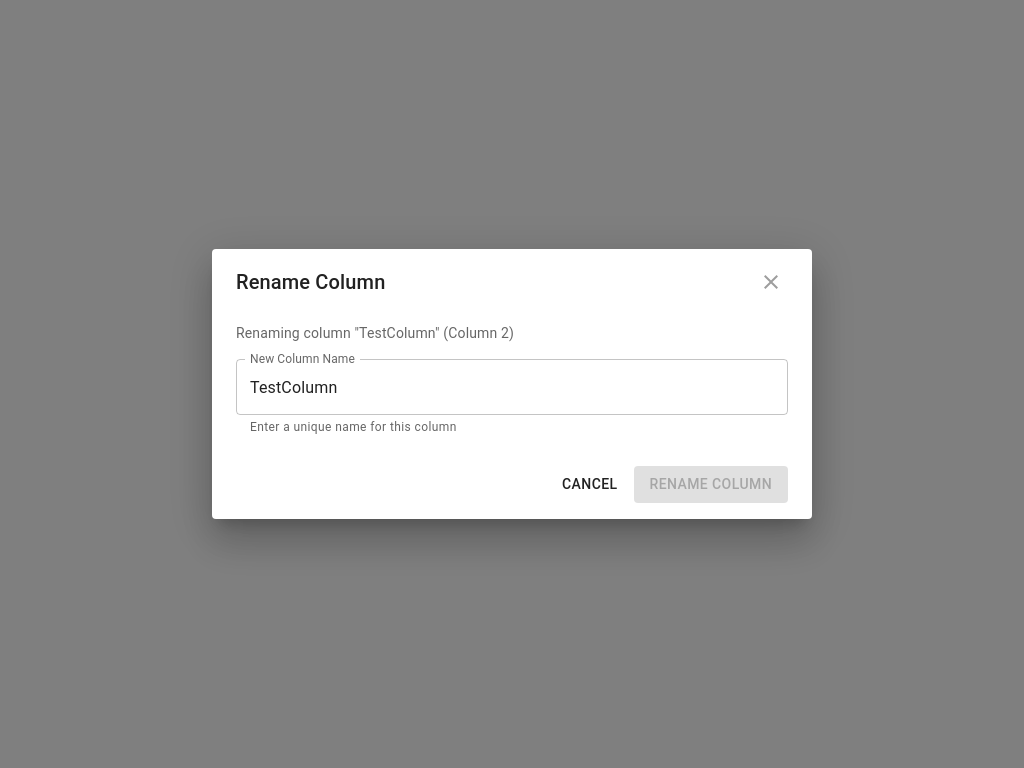
Test: ColumnRenameDialog › validates duplicate column names
This screenshot has width=1024, height=768.
Replace the text in the field showing "TestColumn" with "Column1" at (512, 387), box [236,359,788,415]
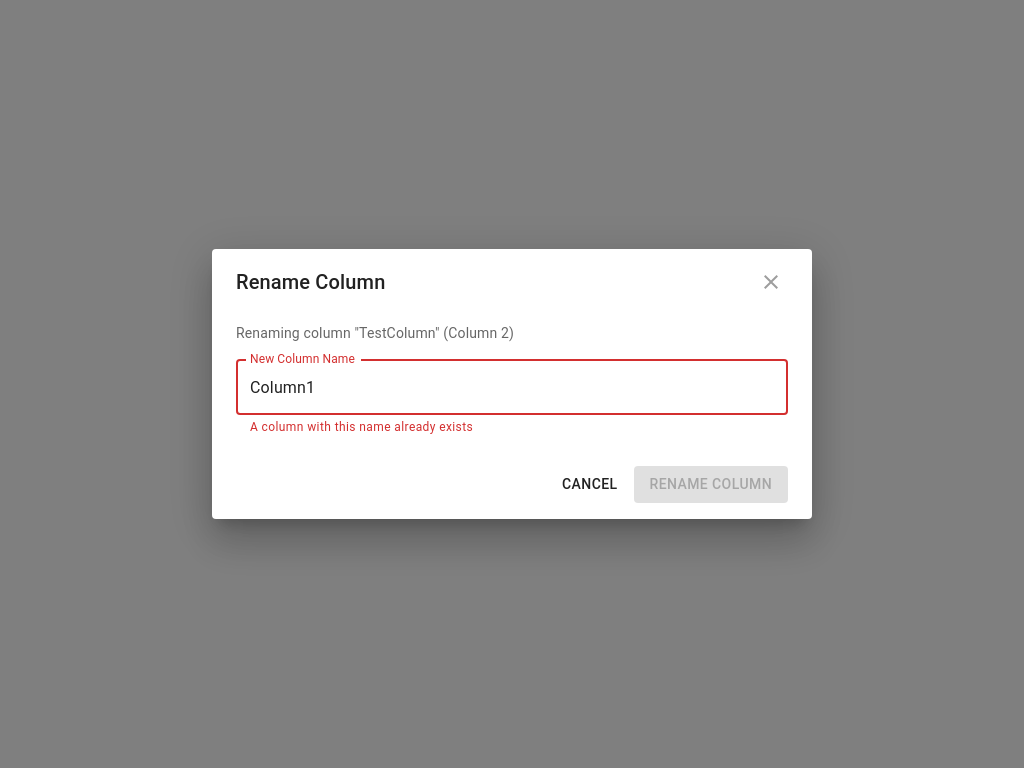
Expected: the button "Rename Column" is disabled, [634,466,788,503]
Expected: the text "A column with this name already exists" is shown, [250,420,473,434]
